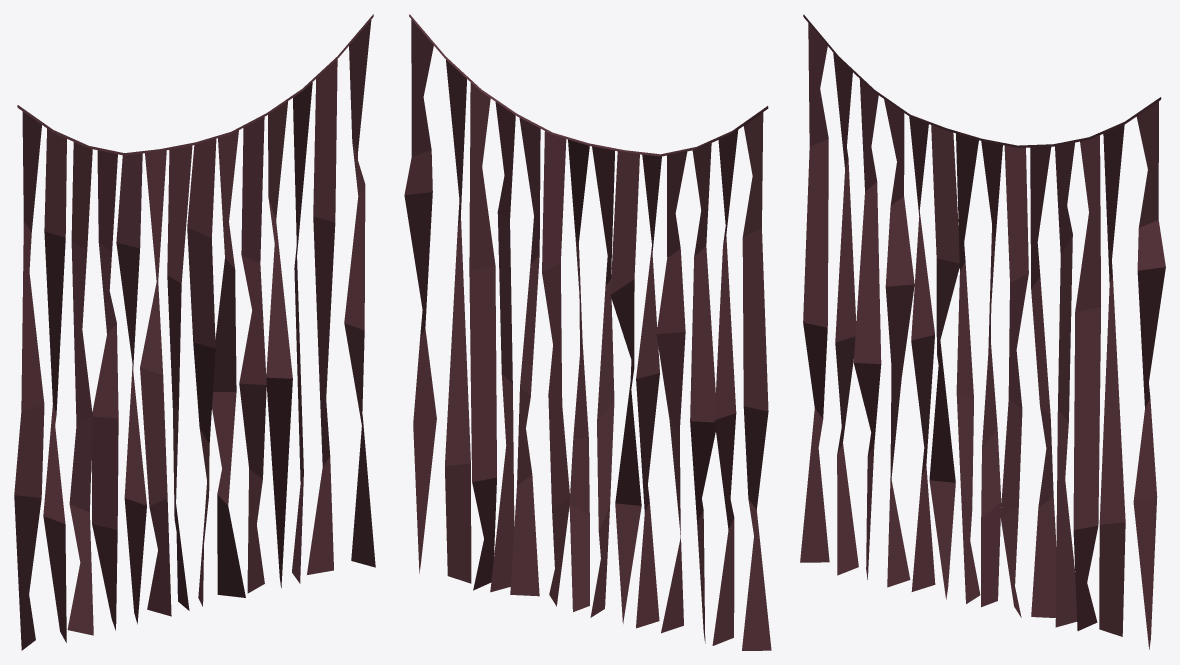
File: celebration-wall.fbx
The picture shows the model from 3 angles, left to right: view 1: azimuth 30°, elevation 25°; view 2: azimuth 150°, elevation 25°; view 3: azimuth 330°, elevation 25°; orthographic projection.
Parts seen in each view (by area): view 1: celebration-wall; view 2: celebration-wall; view 3: celebration-wall.
Part boxes in pixels (box(x1,y1,x2,y2)): celebration-wall: box(14, 14, 375, 650); celebration-wall: box(404, 14, 771, 650); celebration-wall: box(800, 14, 1165, 649).
Size of the model in its own units: 1.88 by 2.77 by 0.1633.
